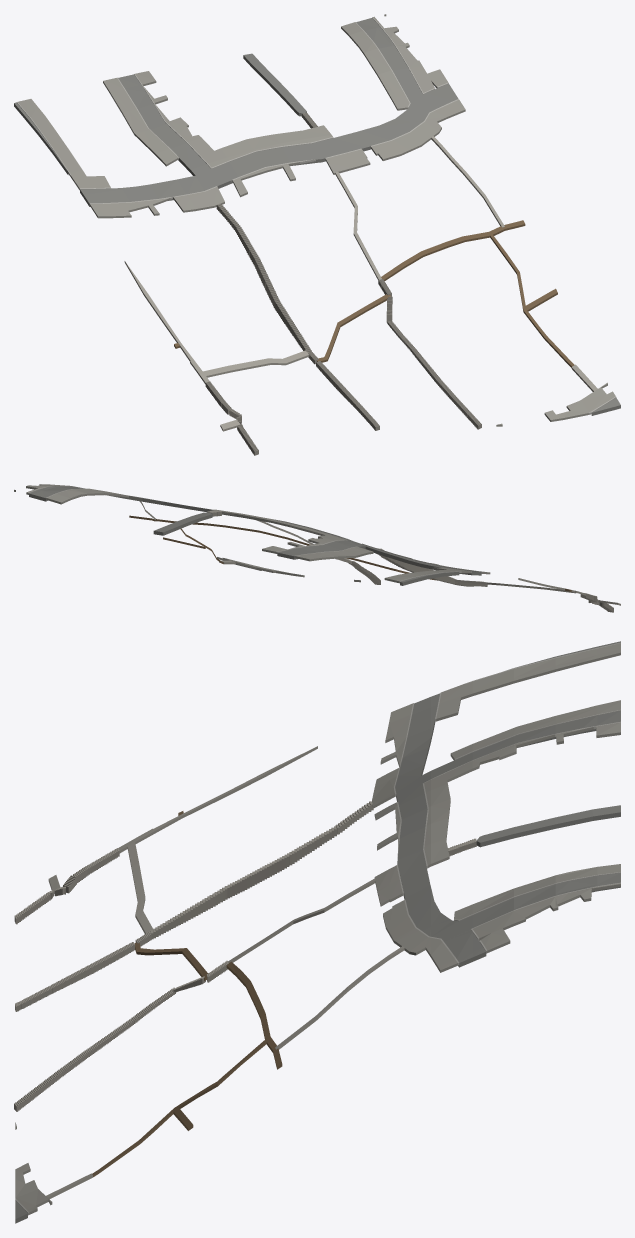
3 renders of one model, top to bottom at view 1: azimuth 30°, elevation 25°; view 2: azimuth 150°, elevation 25°; view 3: azimuth 270°, elevation 25°, orthographic. The views are drawn at different scales.
Size of the model in its own units: 147 by 86.66 by 146.
